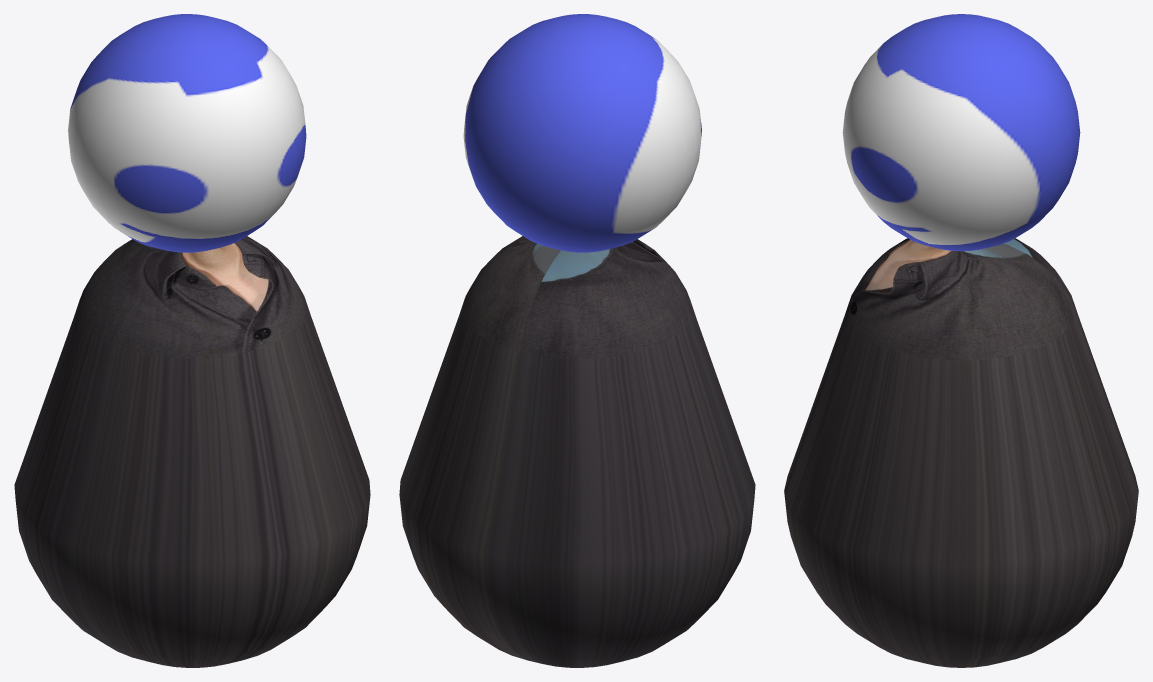
Rendered from Discord.glb.
The picture shows the model from 3 angles, left to right: view 1: azimuth 30°, elevation 25°; view 2: azimuth 150°, elevation 25°; view 3: azimuth 270°, elevation 25°; orthographic projection.
Visible parts, largest first — view 1: Sphere.003; view 2: Sphere.003; view 3: Sphere.003.
Boxes of the visible parts, x1,y1,x2,y2 form: Sphere.003: [14, 14, 370, 667]; Sphere.003: [399, 14, 755, 667]; Sphere.003: [784, 14, 1138, 667].
Bounding box in the file's own units: 1.52 × 2.95 × 1.52.
2 materials, 2 textured.
